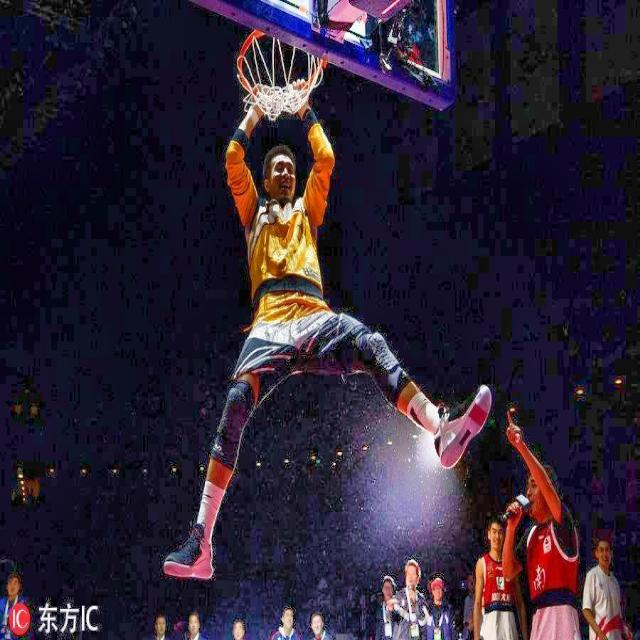board: (8, 602, 30, 634)
rim: (235, 28, 324, 122)
